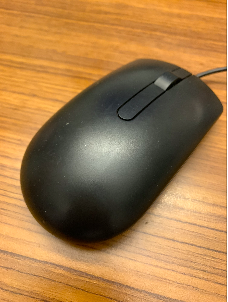object_name: (31, 55, 209, 239)
